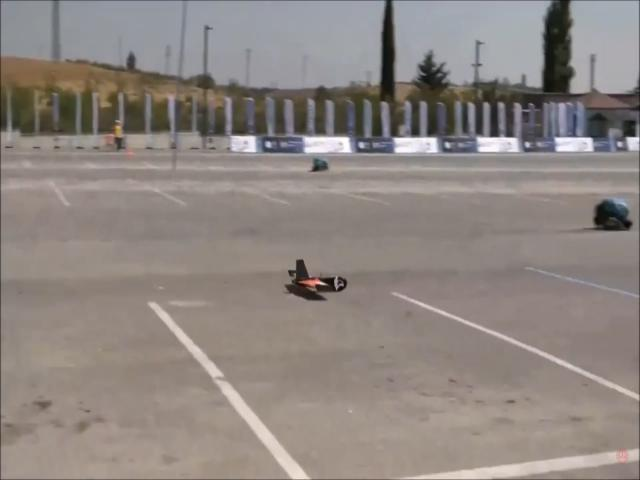insansiz-hava-araci: (288, 259, 348, 293)
